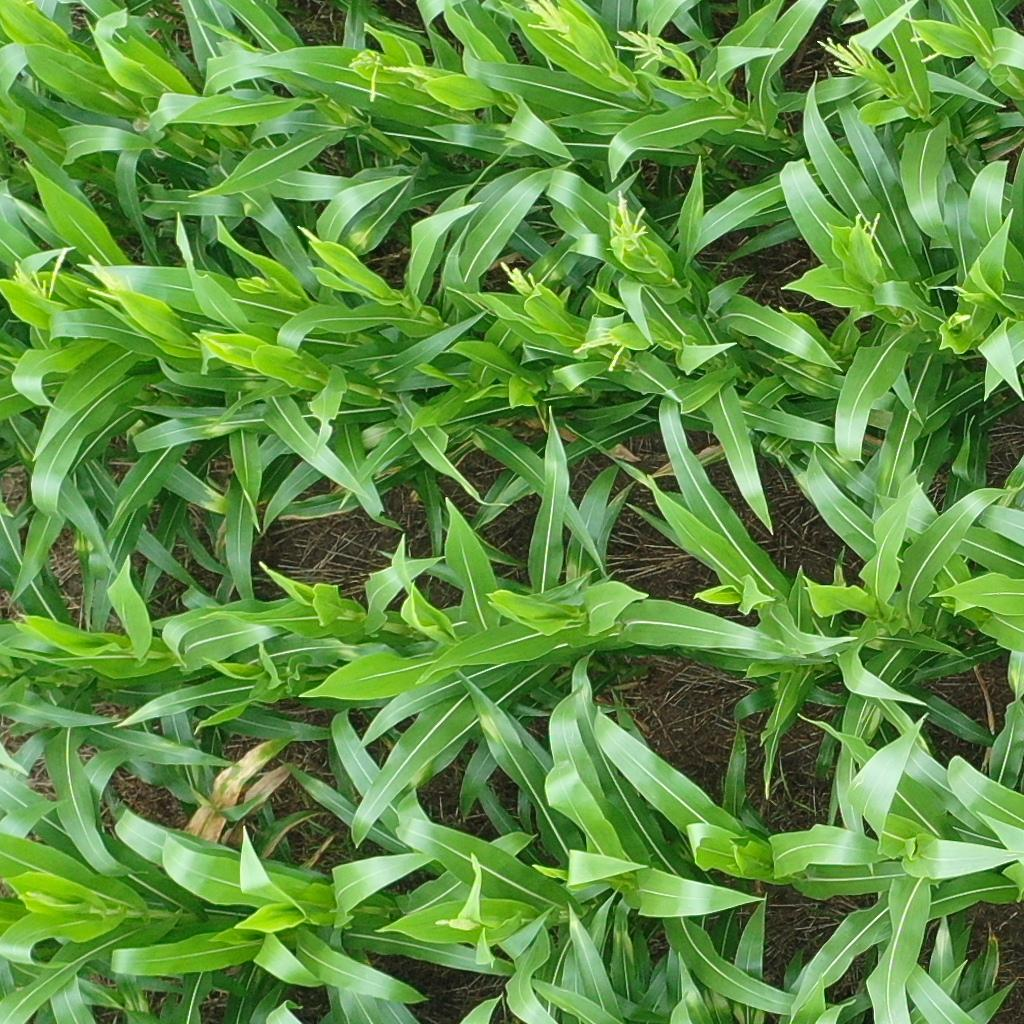Tassel: (348, 45, 429, 103), (9, 241, 70, 309), (74, 249, 128, 309), (602, 187, 648, 254), (612, 24, 670, 71), (571, 326, 629, 372), (815, 35, 877, 75), (899, 13, 947, 64), (523, 1, 573, 43), (497, 260, 542, 300), (856, 208, 881, 245), (290, 220, 323, 246), (199, 333, 236, 355)
